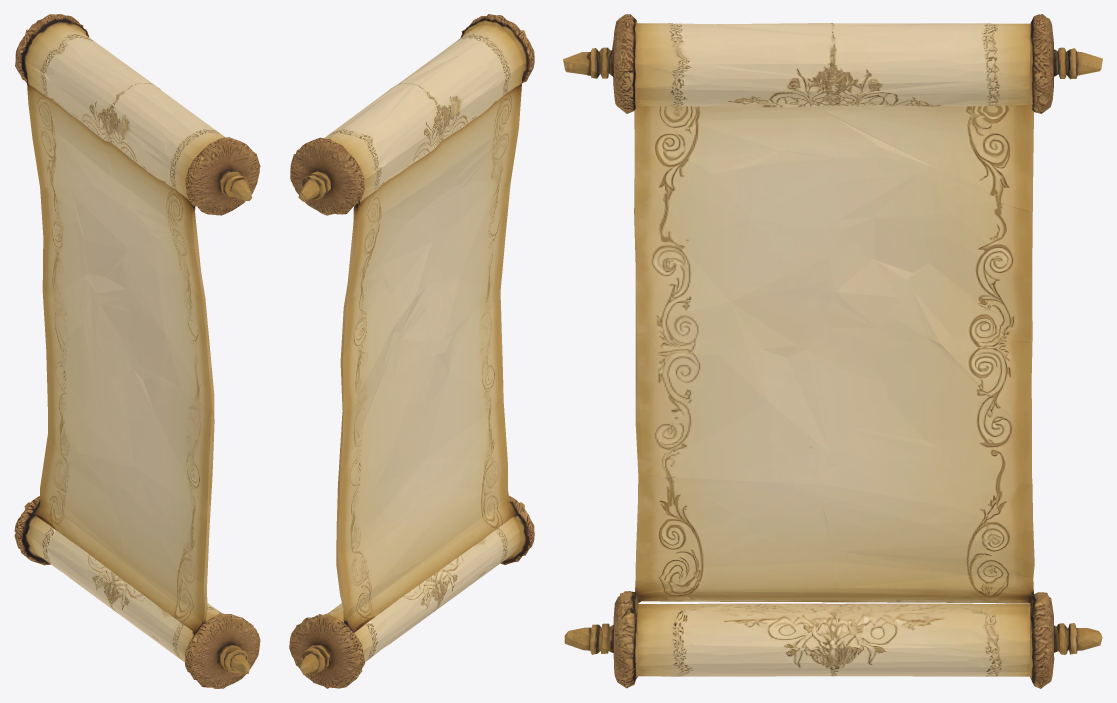
File: acta_independencia.lod2.glb
The picture shows the model from 3 angles, left to right: view 1: azimuth 30°, elevation 25°; view 2: azimuth 150°, elevation 25°; view 3: azimuth 270°, elevation 25°; orthographic projection. The views are drawn at different scales.
Parts seen in each view (by area): view 1: tripo_node_5ac53249-fa79-443a-bffe-d894883a4004_0; view 2: tripo_node_5ac53249-fa79-443a-bffe-d894883a4004_0; view 3: tripo_node_5ac53249-fa79-443a-bffe-d894883a4004_0.
Part boxes in pixels (x1=…): tripo_node_5ac53249-fa79-443a-bffe-d894883a4004_0: x1=14, y1=14, x2=260, y2=688; tripo_node_5ac53249-fa79-443a-bffe-d894883a4004_0: x1=289, y1=14, x2=534, y2=688; tripo_node_5ac53249-fa79-443a-bffe-d894883a4004_0: x1=563, y1=14, x2=1102, y2=688.
Bounding box in the file's own units: 0.14 × 1 × 0.7343.
Materials: 1 (1 with a texture image).
